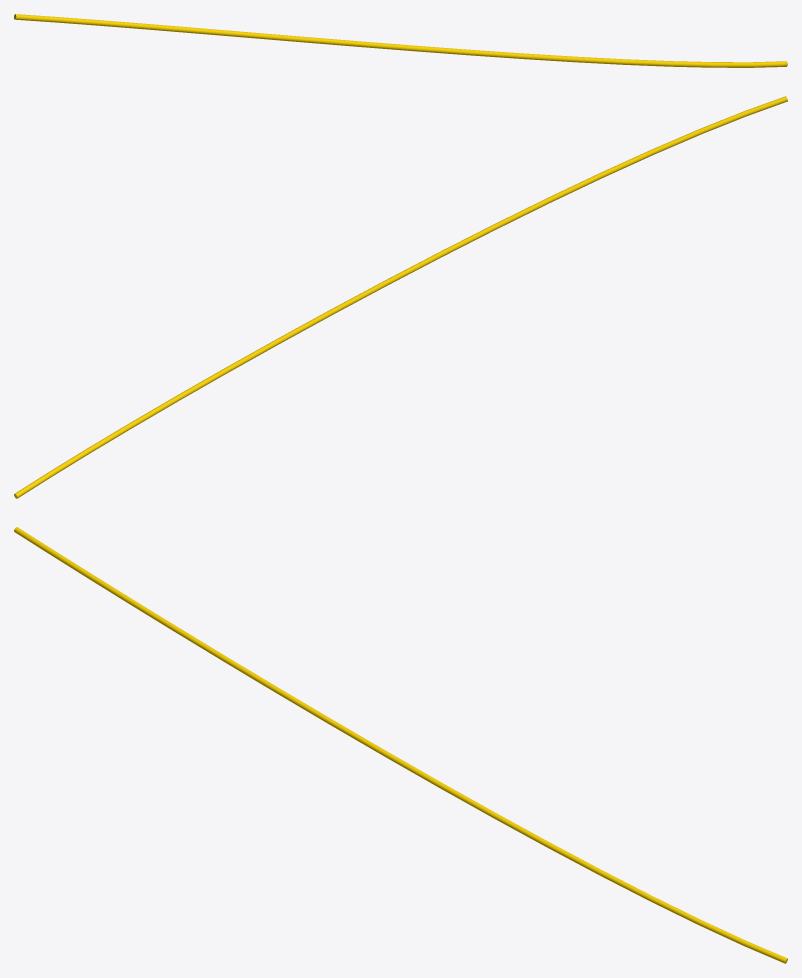
The model's file is Event_421364160_track_22.fbx.
3 renders of one model, top to bottom at view 1: azimuth 30°, elevation 25°; view 2: azimuth 210°, elevation 25°; view 3: azimuth 330°, elevation 25°, orthographic. The views are drawn at different scales.
Visible parts, largest first — view 1: Model; view 2: Model; view 3: Model.
Part boxes in pixels (bbox=[...]): Model: bbox=[14, 14, 787, 67]; Model: bbox=[14, 96, 787, 498]; Model: bbox=[14, 527, 787, 963].
Bounding box in the file's own units: 6.14 × 1.76 × 0.3621.
